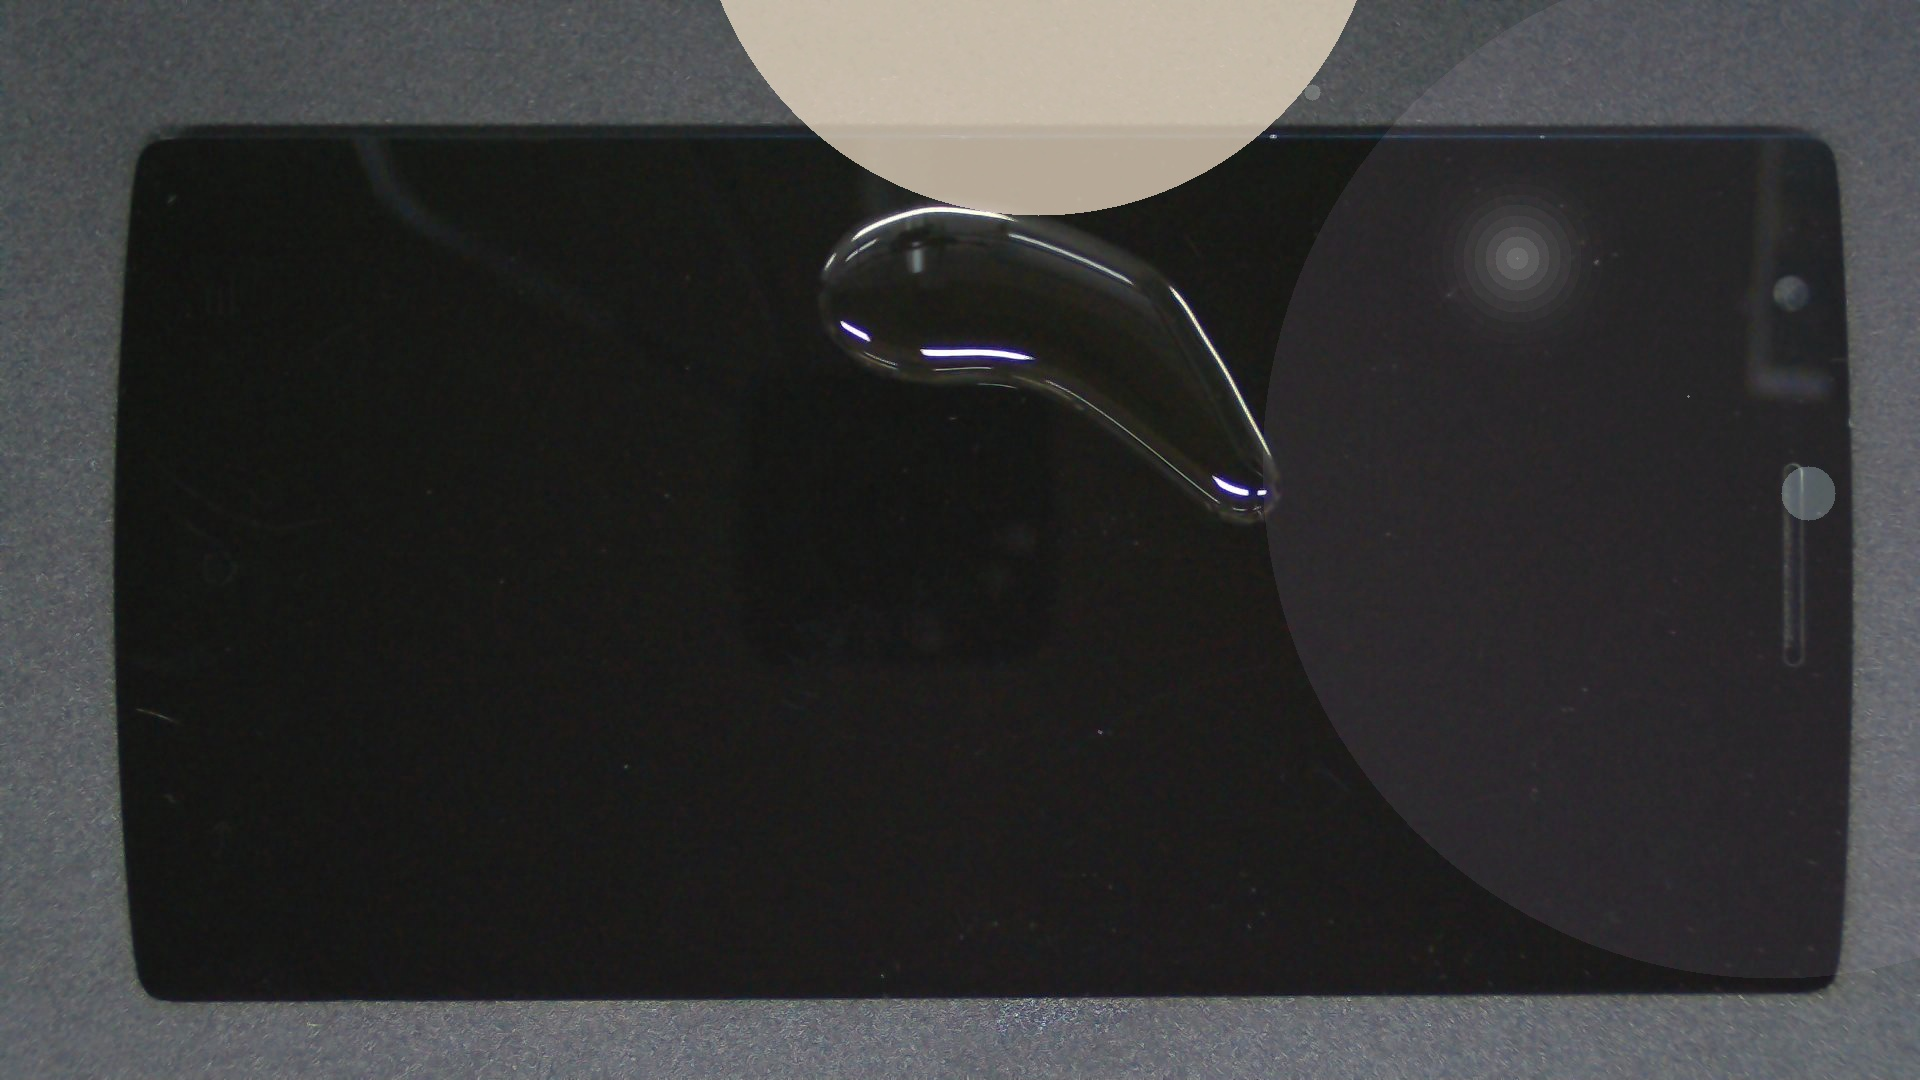oil: (469, 98, 1408, 294)
